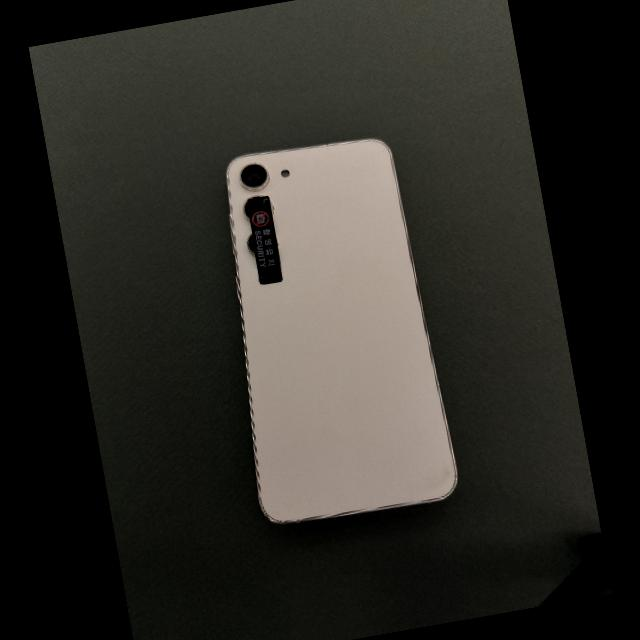lens: (241, 163, 267, 189), (248, 233, 257, 256)
phone: (227, 139, 456, 522)
sticker: (247, 196, 283, 284)
